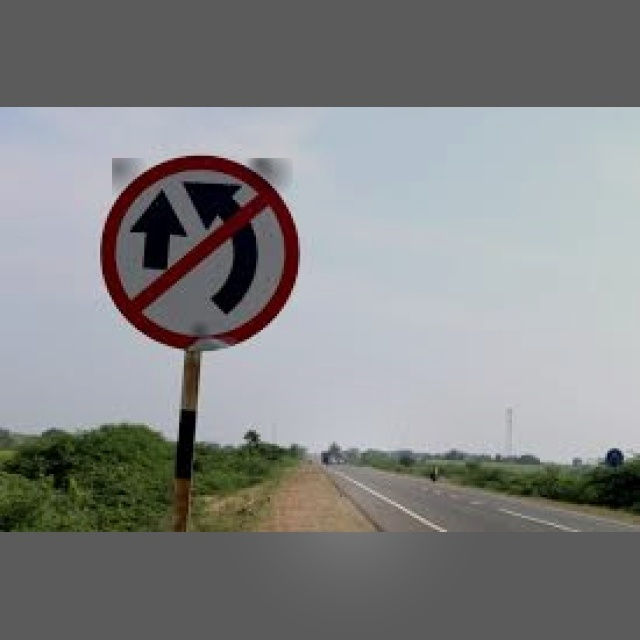Overtaking_Prohibited: (112, 158, 293, 345)
